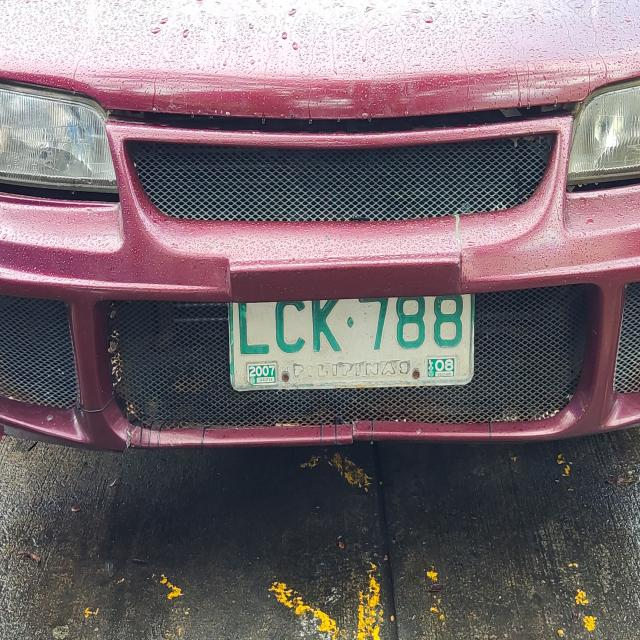plate: (222, 278, 482, 398)
